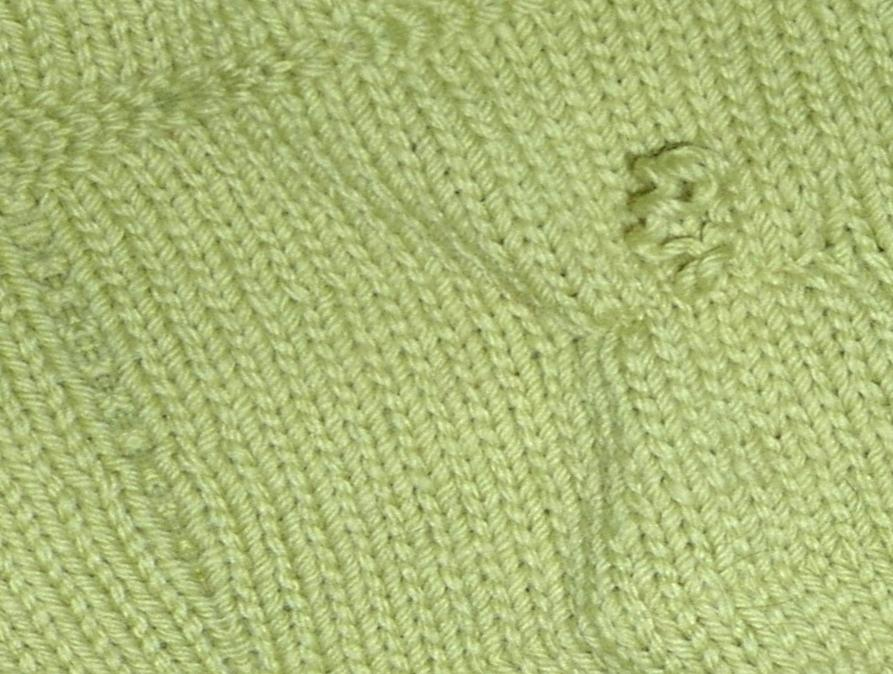knot: (621, 136, 742, 302)
